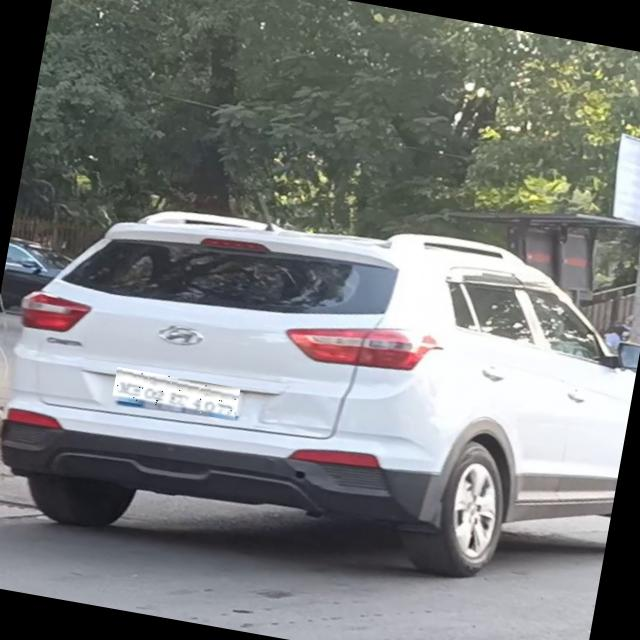Plate: (112, 368, 241, 421)
